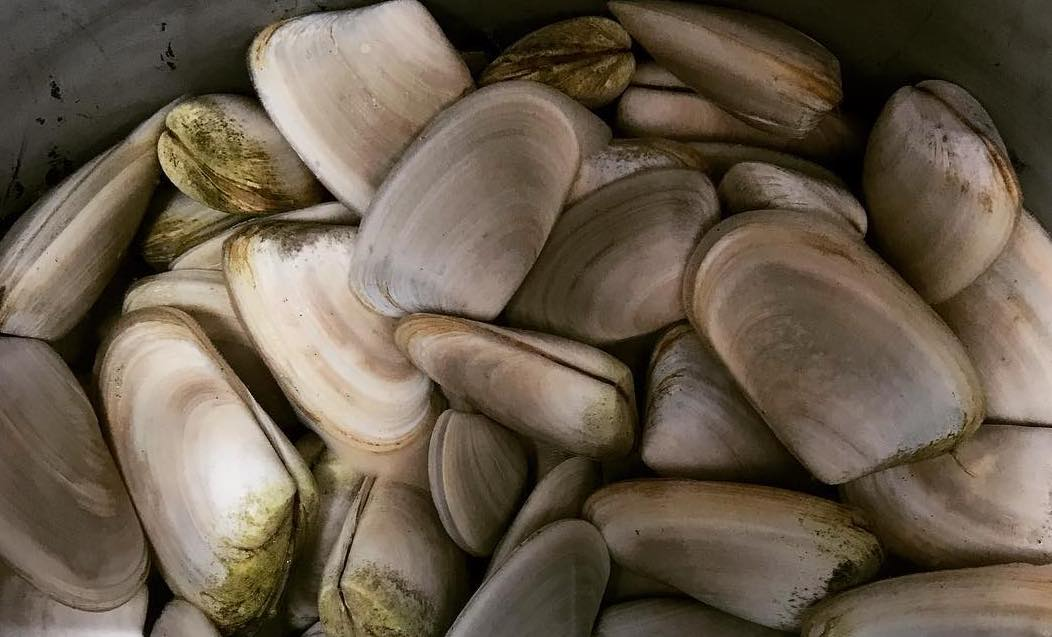tuatua: (686, 195, 989, 490), (84, 305, 321, 616), (345, 73, 576, 334), (241, 1, 477, 220), (220, 219, 434, 458), (583, 474, 886, 626), (2, 327, 150, 618), (384, 308, 650, 464), (510, 163, 726, 346), (862, 74, 1023, 318), (4, 126, 161, 355), (609, 1, 853, 135), (857, 416, 1052, 573), (319, 460, 451, 637), (152, 92, 313, 218), (424, 403, 528, 556), (479, 18, 634, 108)
